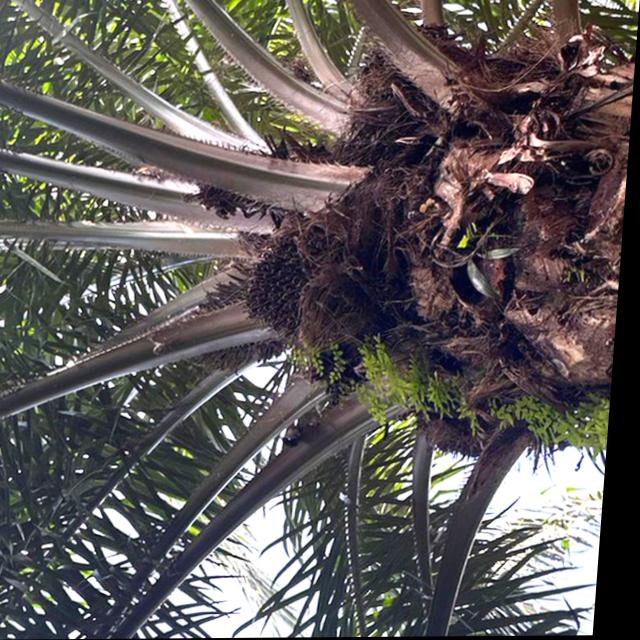almost: (228, 221, 340, 356)
